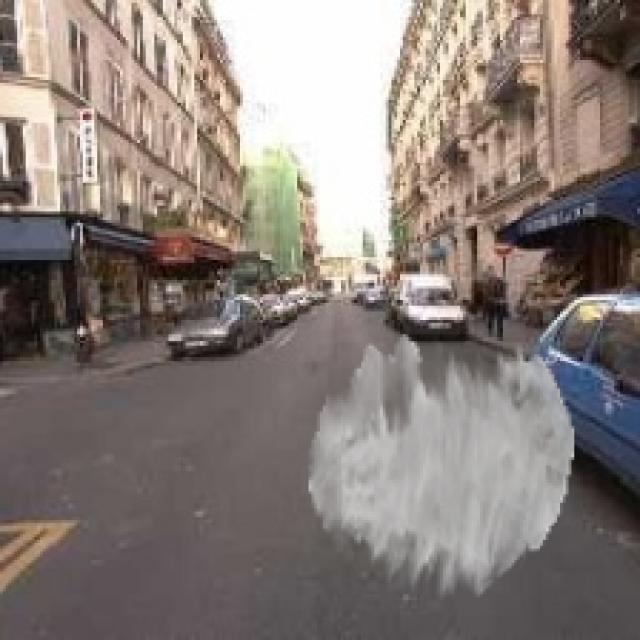smoke: (309, 334, 574, 600)
